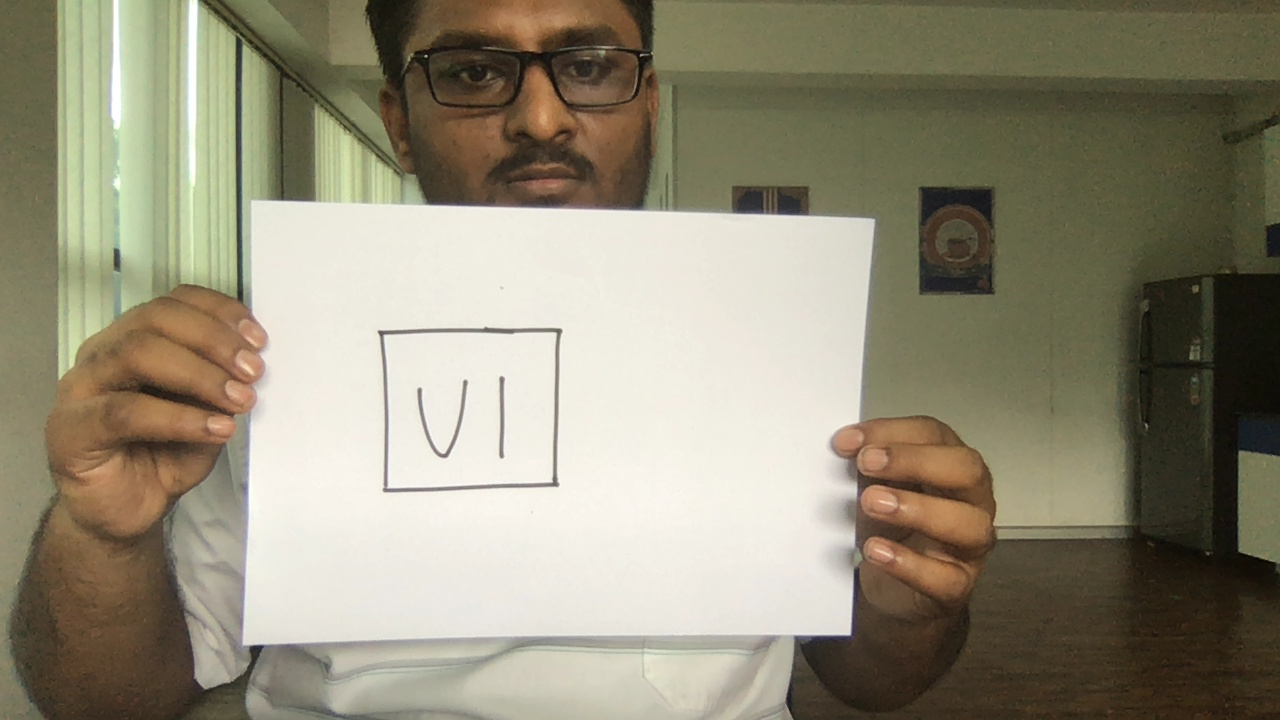ui: (376, 323, 567, 498)
